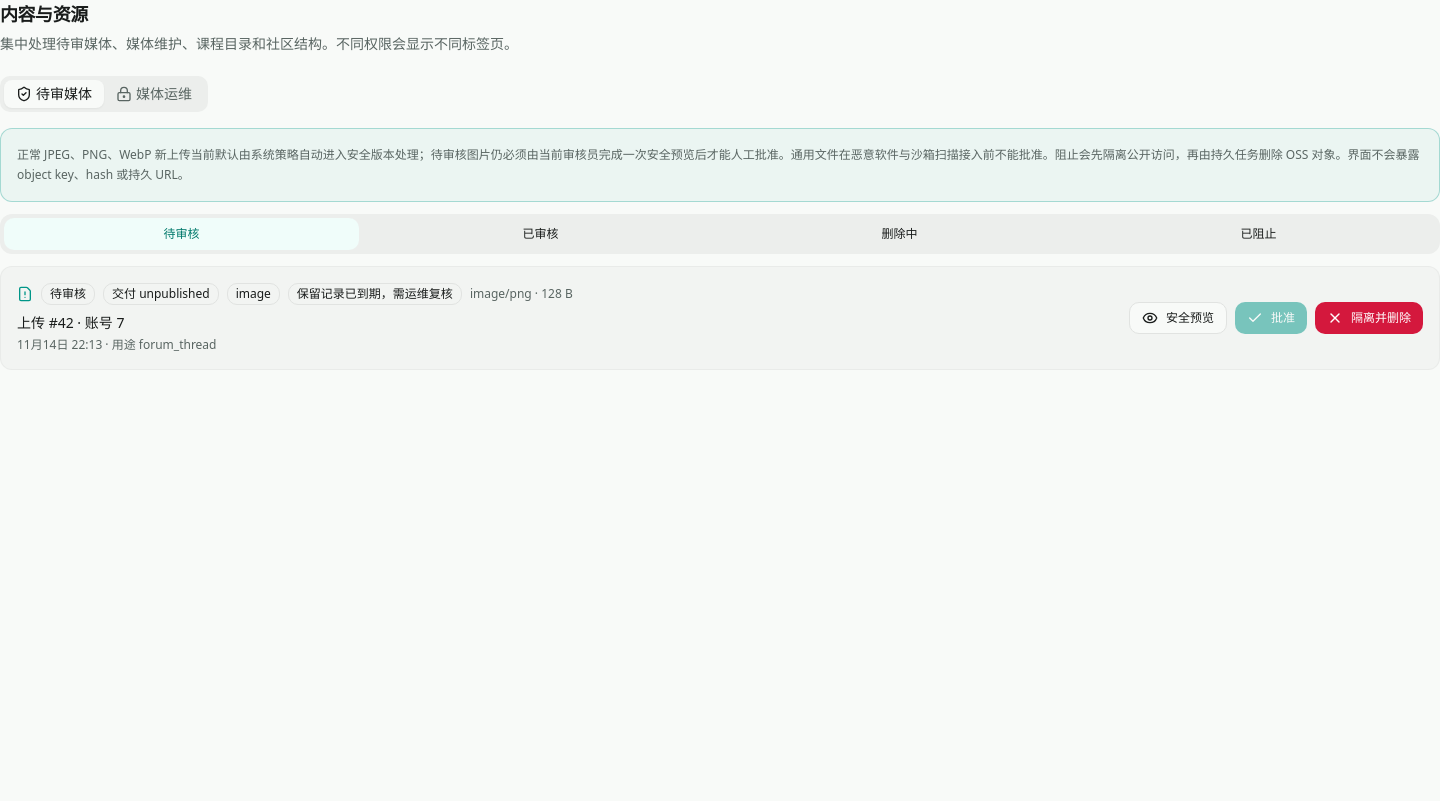
Test: ResourcesPanel media moderation › routes an expired hold record to operations instead of creating over it
Check: the text "保留记录已到期，需运维复核" is shown, box [288,283,462,305]
Check: the button "设置保留" is not shown
Click the tab "媒体运维": (154, 94) [104,80,204,108]
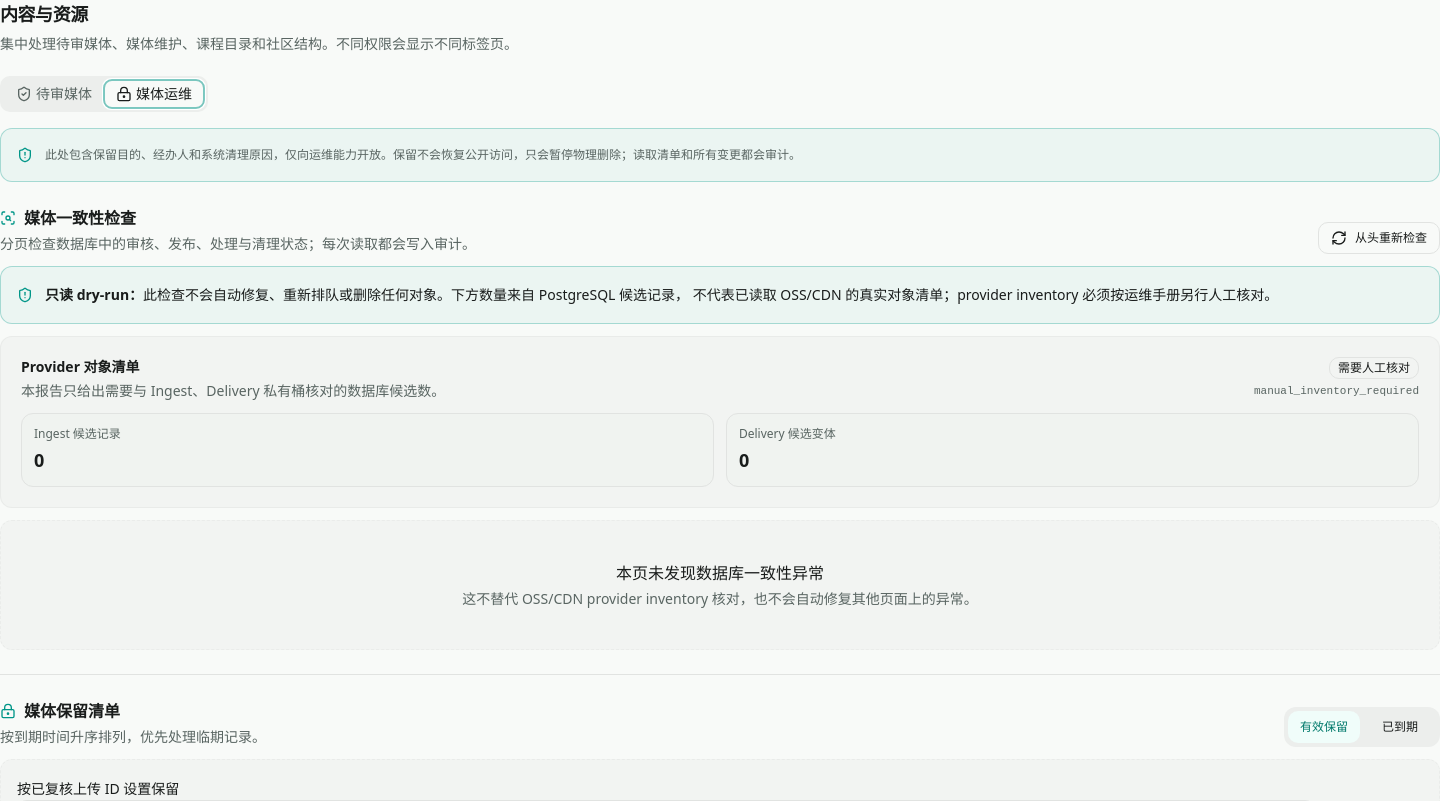
Check: the heading "媒体保留清单" is shown, box [0,700,120,722]
